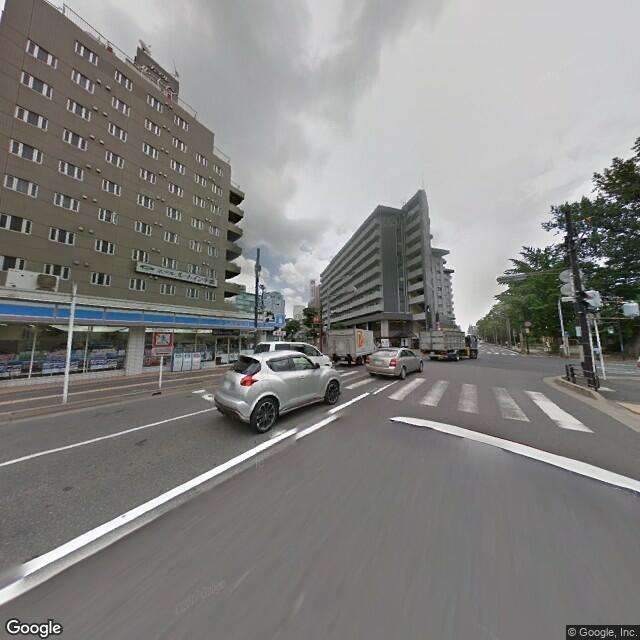lawson: (1, 292, 273, 336), (271, 310, 290, 326)
